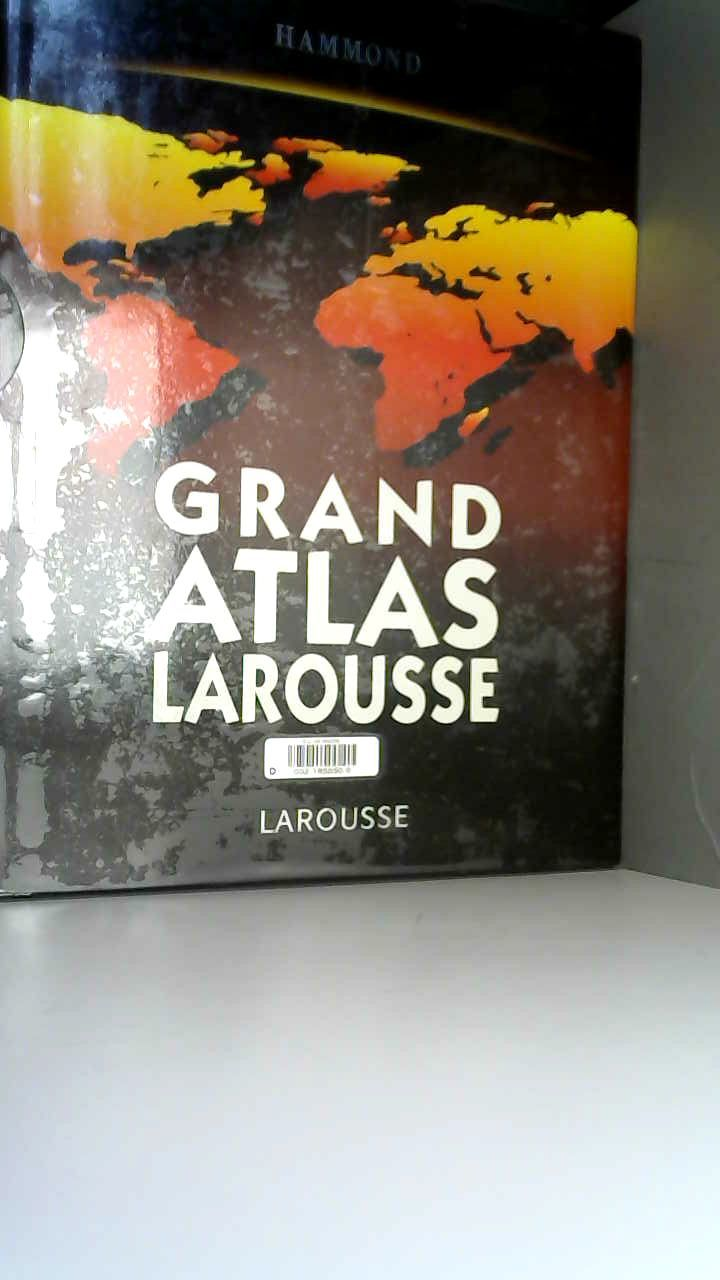book: (0, 0, 663, 925)
